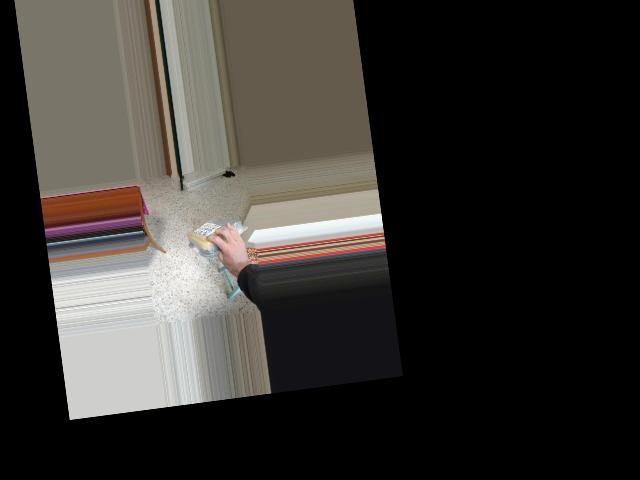cheese: (185, 215, 249, 253)
